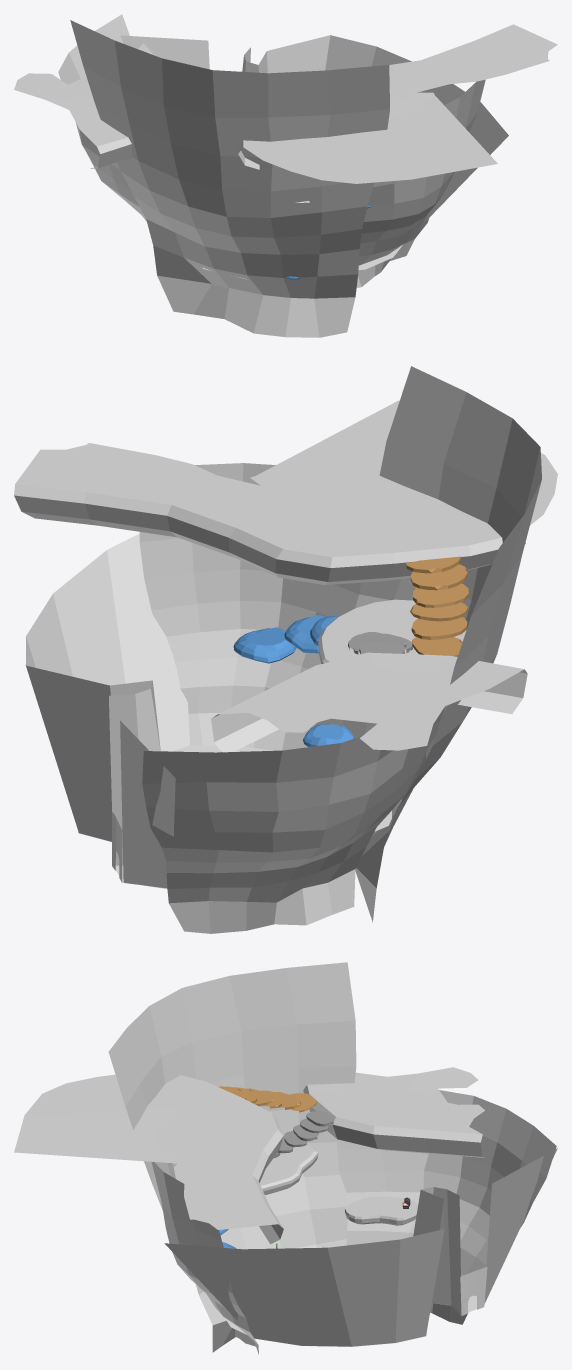
Rendered from sea_island-collider.fbx.
3 renders of one model, top to bottom at view 1: azimuth 30°, elevation 25°; view 2: azimuth 150°, elevation 25°; view 3: azimuth 270°, elevation 25°, orthographic. The views are drawn at different scales.
Parts seen in each view (by area): view 1: mainWallM, PlaneL, wall-out, mainWallL, PlaneR, mainWallR; view 2: PlaneL, mainWallR, wall-out, mainWallM, mainWallL, PlaneR, smallPlane-01, Circle.033, bridge05, bridge02, bridge04, Circle.002 (+4 smaller); view 3: mainWallM, wall-out, PlaneL, mainWallR, PlaneR, mainWallL, smallPlane-01, smallPlaneItem, wall-port.
Part boxes in pixels (box(x1,y1,x2,y2)): mainWallM: box(70, 20, 389, 337); PlaneL: box(238, 24, 557, 183); wall-out: box(120, 35, 508, 221); mainWallL: box(356, 79, 485, 287); PlaneR: box(14, 43, 157, 168); mainWallR: box(58, 14, 146, 221); PlaneL: box(14, 400, 557, 584); mainWallR: box(142, 708, 443, 933); wall-out: box(25, 534, 189, 888); mainWallM: box(342, 366, 541, 922); mainWallL: box(139, 463, 401, 750); PlaneR: box(211, 652, 527, 752); smallPlane-01: box(318, 599, 466, 663); Circle.033: box(233, 627, 296, 663); bridge05: box(410, 564, 467, 590); bridge02: box(411, 617, 467, 639); bridge04: box(413, 583, 468, 607); Circle.002: box(303, 724, 354, 746); mainWallM: box(108, 962, 356, 1352); wall-out: box(164, 1148, 557, 1346); PlaneL: box(14, 1074, 283, 1244); mainWallR: box(336, 1090, 556, 1324); PlaneR: box(303, 1067, 484, 1157); mainWallL: box(151, 1162, 258, 1354); smallPlane-01: box(173, 1144, 318, 1194); smallPlaneItem: box(345, 1196, 417, 1225); wall-port: box(460, 1267, 487, 1315).
Size of the model in its own units: 5026 by 3598 by 5933.
